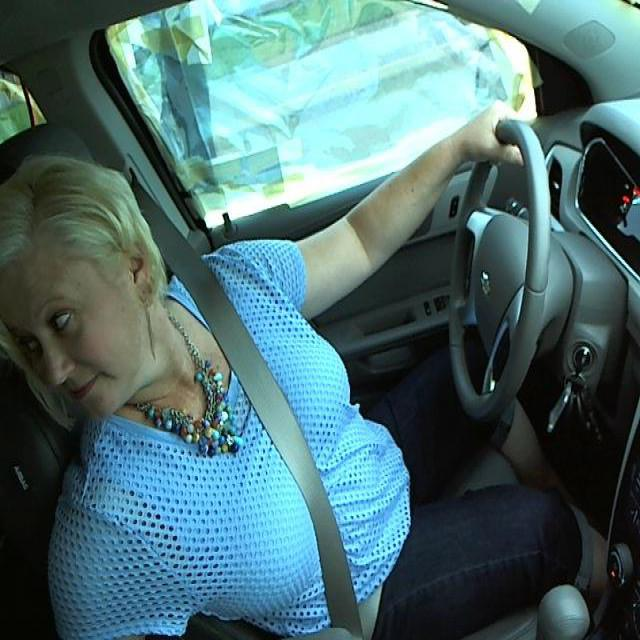seatbelt: (190, 309, 377, 631)
